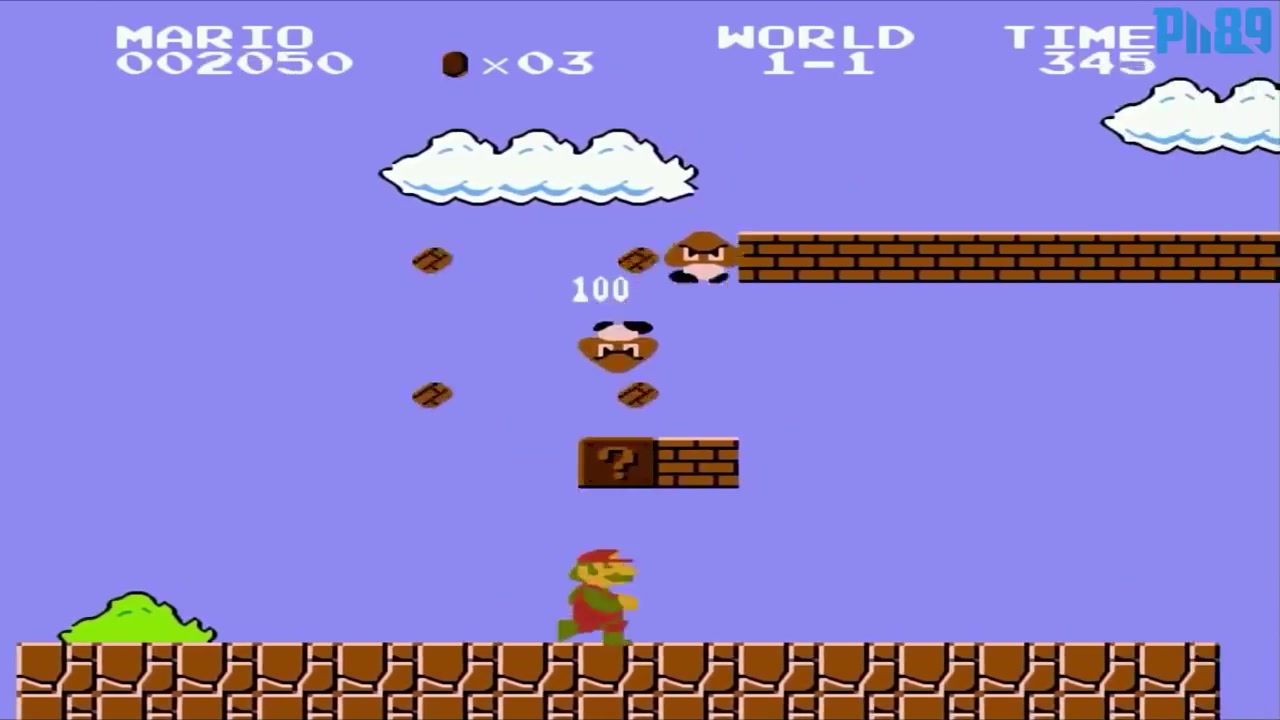mario: (559, 543, 641, 649)
